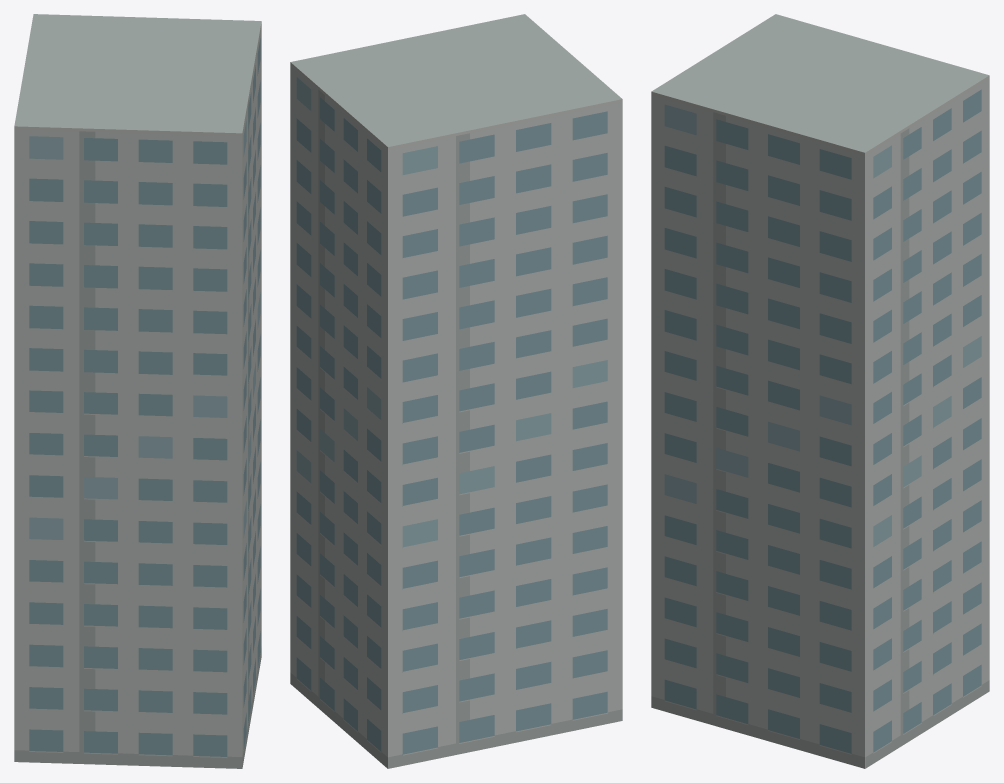
The model's file is residential-b39c6345-882f-4073-bd9b-34248925054d.glb.
3 views of the same model, side by side, from view 1: azimuth 30°, elevation 25°; view 2: azimuth 150°, elevation 25°; view 3: azimuth 270°, elevation 25° (orthographic). The views are drawn at different scales.
Visible parts, largest first — view 1: residential-b39c6345-882f-4073-bd9b-34248925054d.tmp; view 2: residential-b39c6345-882f-4073-bd9b-34248925054d.tmp; view 3: residential-b39c6345-882f-4073-bd9b-34248925054d.tmp.
Boxes of the visible parts, x1=… form: residential-b39c6345-882f-4073-bd9b-34248925054d.tmp: x1=14, y1=14, x2=261, y2=768; residential-b39c6345-882f-4073-bd9b-34248925054d.tmp: x1=290, y1=14, x2=622, y2=768; residential-b39c6345-882f-4073-bd9b-34248925054d.tmp: x1=651, y1=14, x2=989, y2=768.
Size of the model in its own units: 25.62 by 53 by 26.38.
